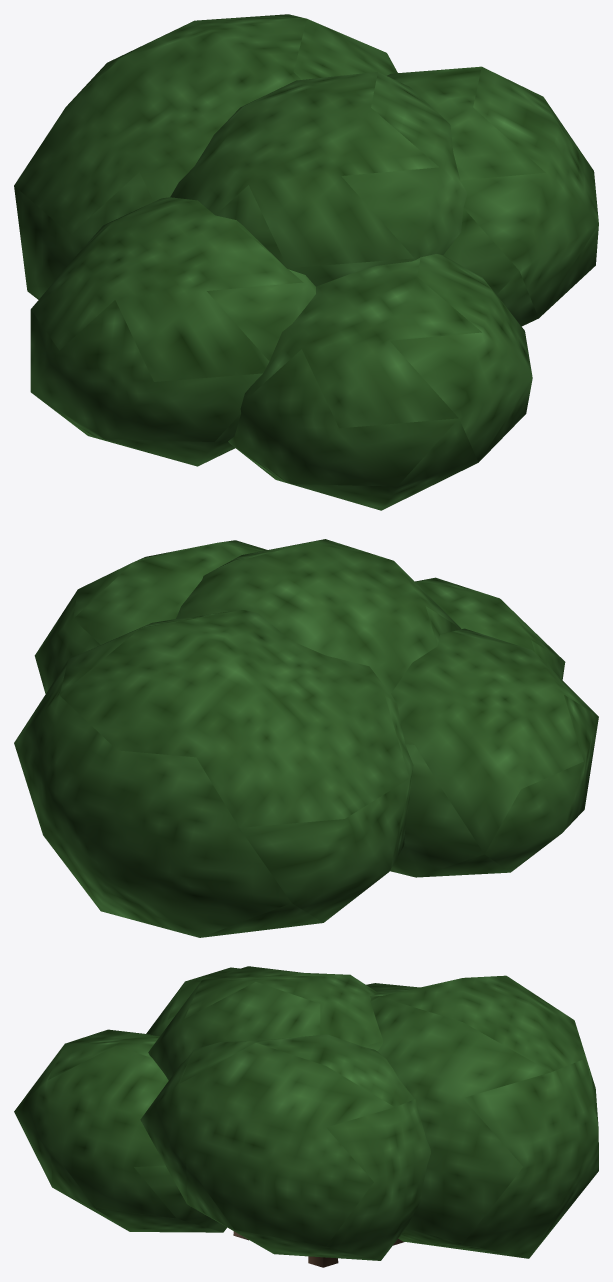
The model's file is shrub_3.glb.
3 renders of one model, top to bottom at view 1: azimuth 30°, elevation 25°; view 2: azimuth 150°, elevation 25°; view 3: azimuth 270°, elevation 25°, orthographic. The views are drawn at different scales.
Parts seen in each view (by area): view 1: shrub_3; view 2: shrub_3; view 3: shrub_3.
Part boxes in pixels (bbox=[...]): shrub_3: bbox=[14, 14, 598, 510]; shrub_3: bbox=[14, 539, 598, 937]; shrub_3: bbox=[14, 966, 598, 1267].
Bounding box in the file's own units: 1.47 × 0.8424 × 1.67.
Materials: 2 (2 with a texture image).
